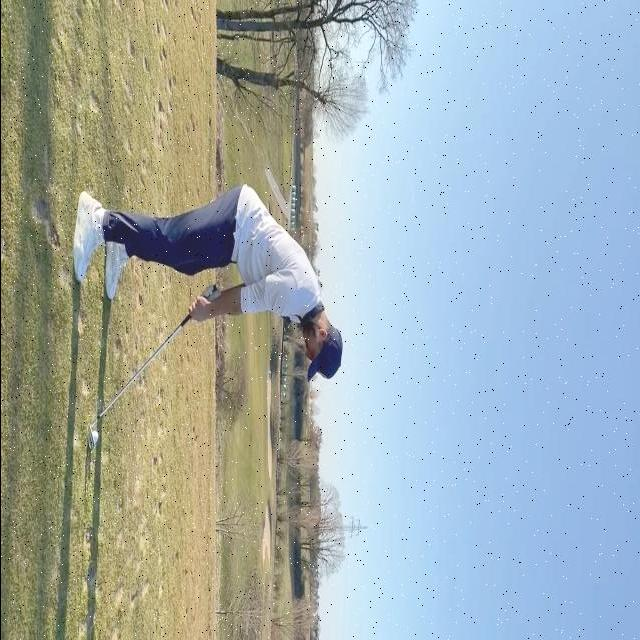golf ball: (92, 432, 98, 443)
golf club-handle: (87, 284, 216, 450)
golf club-head: (87, 427, 94, 451)
